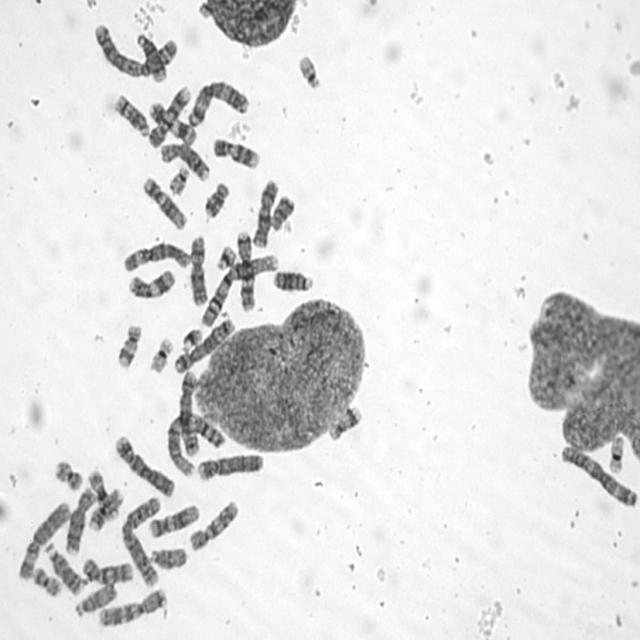A1: (197, 251, 280, 330), (165, 409, 227, 478)
A2: (91, 19, 173, 82), (119, 493, 162, 588)
A3: (557, 442, 639, 510), (185, 77, 251, 128)
B4: (112, 432, 176, 498), (194, 449, 265, 482)
B5: (172, 314, 237, 376), (177, 368, 200, 457)
C10: (186, 496, 241, 554), (80, 555, 134, 585)
C11: (146, 98, 198, 148), (126, 266, 176, 301)
C12: (140, 173, 188, 232), (147, 500, 201, 540)
C6: (15, 497, 72, 582), (121, 239, 191, 274)
C7: (94, 584, 168, 628), (234, 226, 256, 314)
C8: (63, 484, 97, 556), (157, 139, 211, 183)
C9: (146, 83, 192, 150), (210, 134, 261, 172)
D13: (43, 541, 83, 596), (270, 266, 314, 294)
D14: (133, 30, 167, 84), (112, 91, 150, 139)
D15: (72, 580, 119, 618), (148, 544, 188, 570)
E16: (86, 467, 120, 521), (86, 485, 125, 532)
E17: (326, 402, 363, 442), (115, 320, 143, 370)
E18: (200, 178, 232, 220), (266, 192, 298, 233)
F19: (147, 334, 176, 376), (605, 432, 626, 475)
F20: (30, 564, 64, 598), (52, 456, 84, 492)
G21: (179, 324, 204, 353), (214, 242, 238, 272)
G22: (296, 50, 322, 91), (166, 164, 191, 197)
X: (250, 176, 279, 249), (187, 232, 209, 307)
